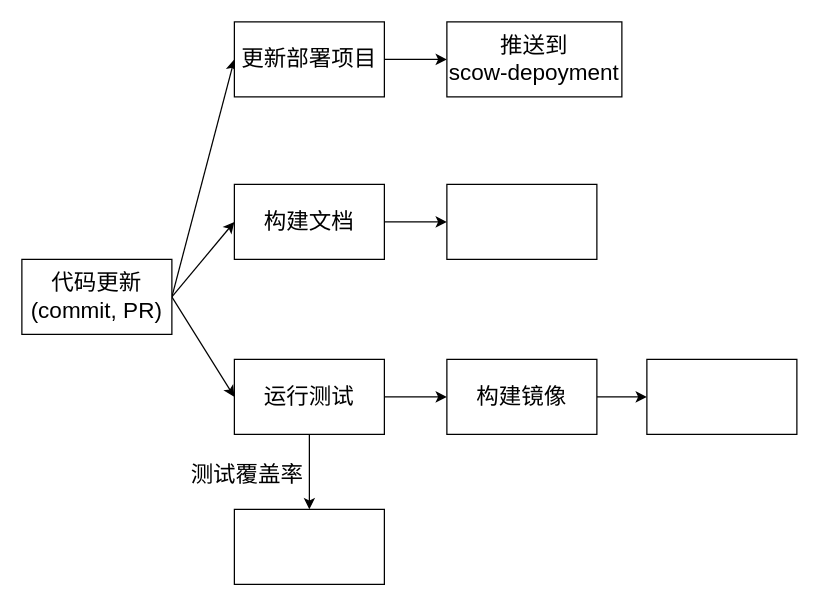
Image size: 819x606. Some labels were removed from this diagram. Each missing label, with the box of its shape:
上传到codecov: (233, 508, 384, 584)
上传镜像到GitHub CR: (646, 358, 797, 434)
发布到 GitHub Pages: (446, 183, 597, 259)
